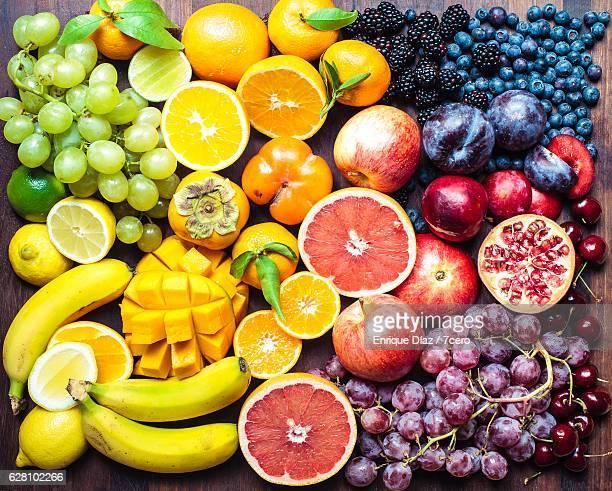apple: (332, 102, 421, 192), (331, 295, 421, 382), (394, 232, 479, 310), (423, 175, 490, 244)
